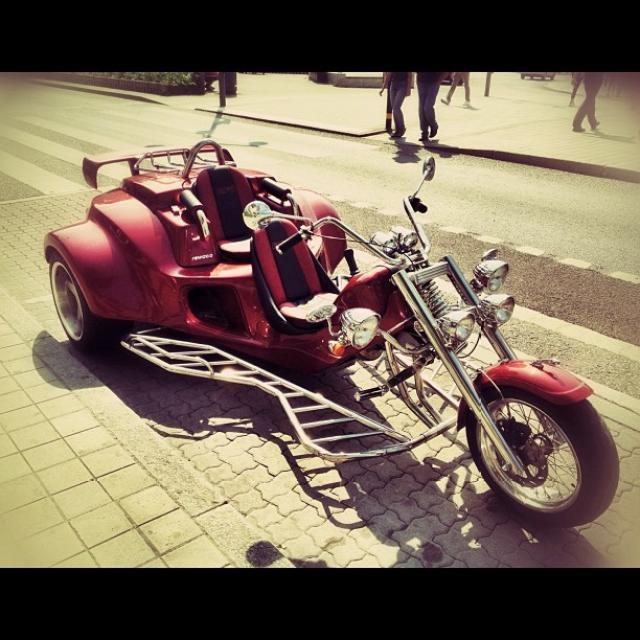motor: (42, 134, 621, 531)
